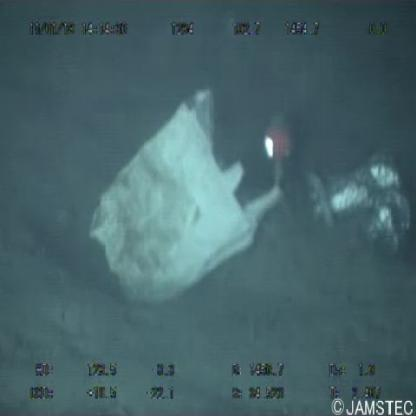Rác: (83, 82, 286, 319)
